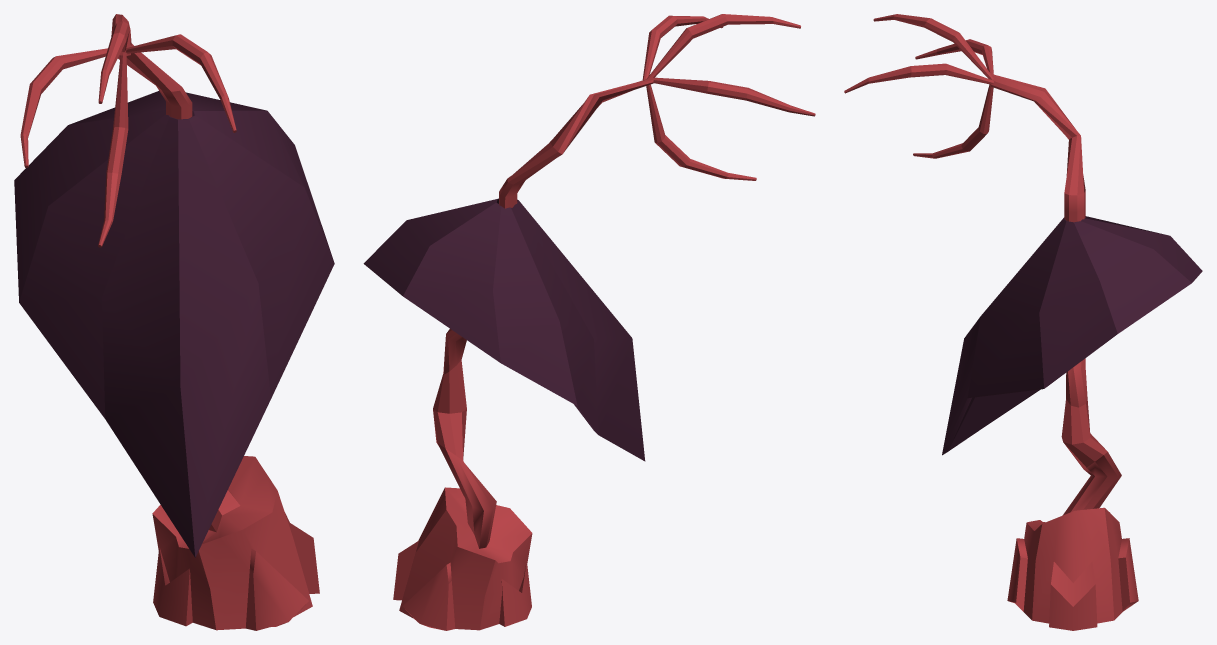
Rendered from lamp.fbx.
3 views of the same model, side by side, from view 1: azimuth 30°, elevation 25°; view 2: azimuth 150°, elevation 25°; view 3: azimuth 270°, elevation 25° (orthographic). The views are drawn at different scales.
Visible parts, largest first — view 1: pCylinder1, pCube1, pCylinder5, pCylinder4, pCylinder2, pCylinder3; view 2: pCylinder1, pCube1, pCylinder4, pCylinder3, pCylinder5, pCylinder2; view 3: pCylinder1, pCube1, pCylinder2, pCylinder3, pCylinder5, pCylinder4.
Boxes of the visible parts, x1,y1,x2,y2 form: pCylinder1: (14,91,334,557); pCube1: (111,14,319,630); pCylinder5: (98,52,128,247); pCylinder4: (20,48,107,167); pCylinder2: (126,34,236,132); pCylinder3: (98,21,129,103); pCylinder1: (363,198,645,461); pCube1: (393,78,653,630); pCylinder4: (650,77,815,116); pCylinder3: (646,14,800,79); pCylinder5: (646,84,756,180); pCylinder2: (642,15,722,80); pCylinder1: (942,216,1202,455); pCube1: (990,74,1138,630); pCylinder2: (844,63,993,93); pCylinder3: (873,14,993,79); pCylinder5: (913,84,993,158); pCylinder4: (915,39,993,75).
Bounding box in the file's own units: 4.49 × 7.27 × 4.66.
